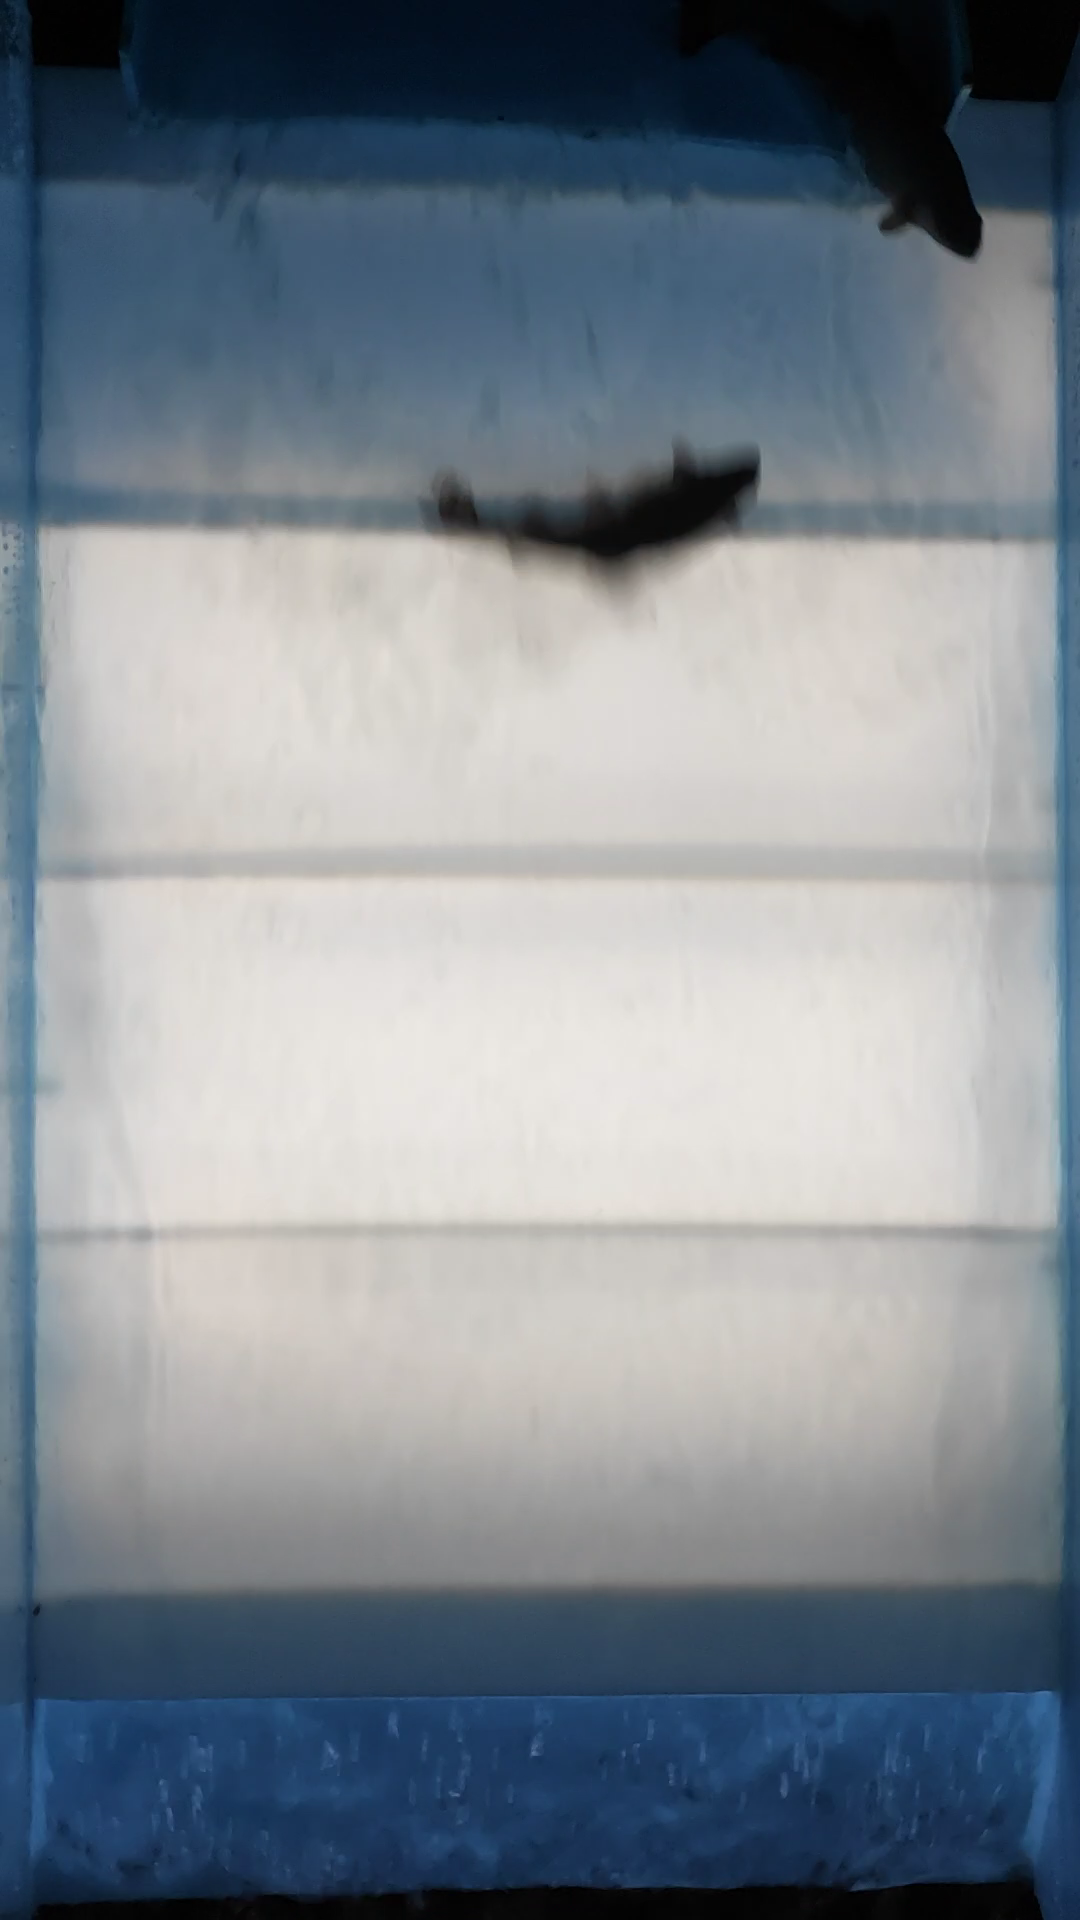fish: (416, 439, 772, 574)
